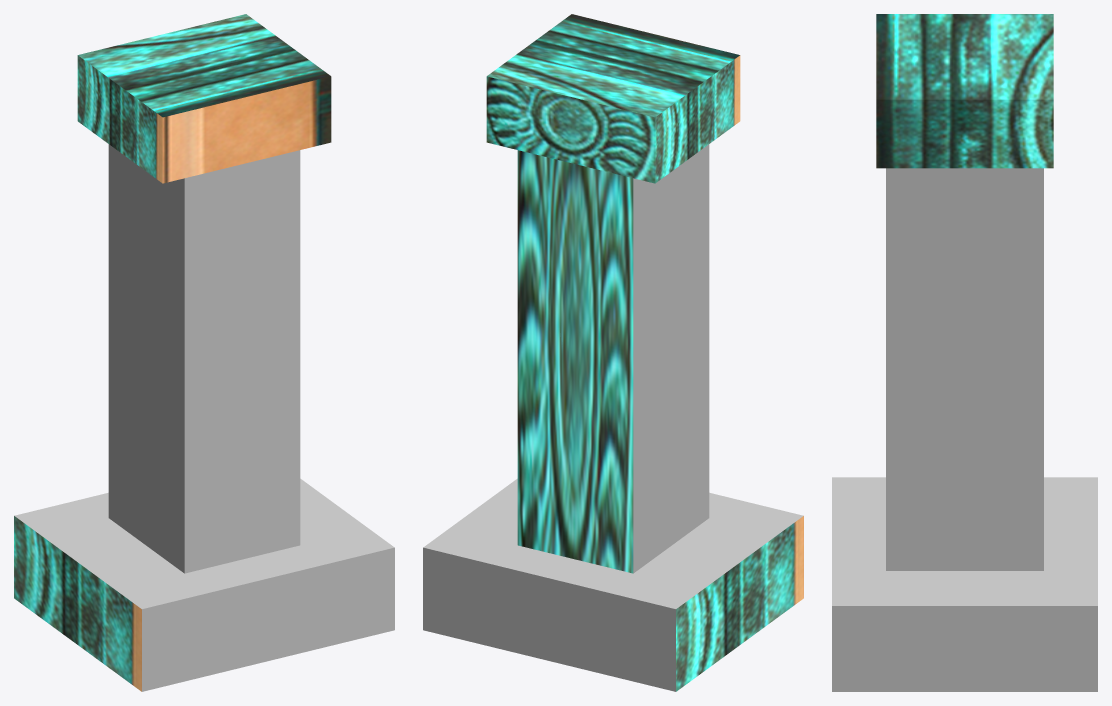
The model's file is SM_AF_Wayfinder_B_LOD1.glb.
The picture shows the model from 3 angles, left to right: view 1: azimuth 30°, elevation 25°; view 2: azimuth 150°, elevation 25°; view 3: azimuth 270°, elevation 25°; orthographic projection. The views are drawn at different scales.
Parts seen in each view (by area): view 1: SM_AF_Wayfinder_B_LOD1; view 2: SM_AF_Wayfinder_B_LOD1; view 3: SM_AF_Wayfinder_B_LOD1.
Boxes of the visible parts, x1,y1,x2,y2 form: SM_AF_Wayfinder_B_LOD1: [14, 14, 394, 691]; SM_AF_Wayfinder_B_LOD1: [423, 14, 803, 691]; SM_AF_Wayfinder_B_LOD1: [832, 14, 1097, 691].
Bounding box in the file's own units: 0.96 × 1.99 × 0.84.
2 materials, 1 textured.
